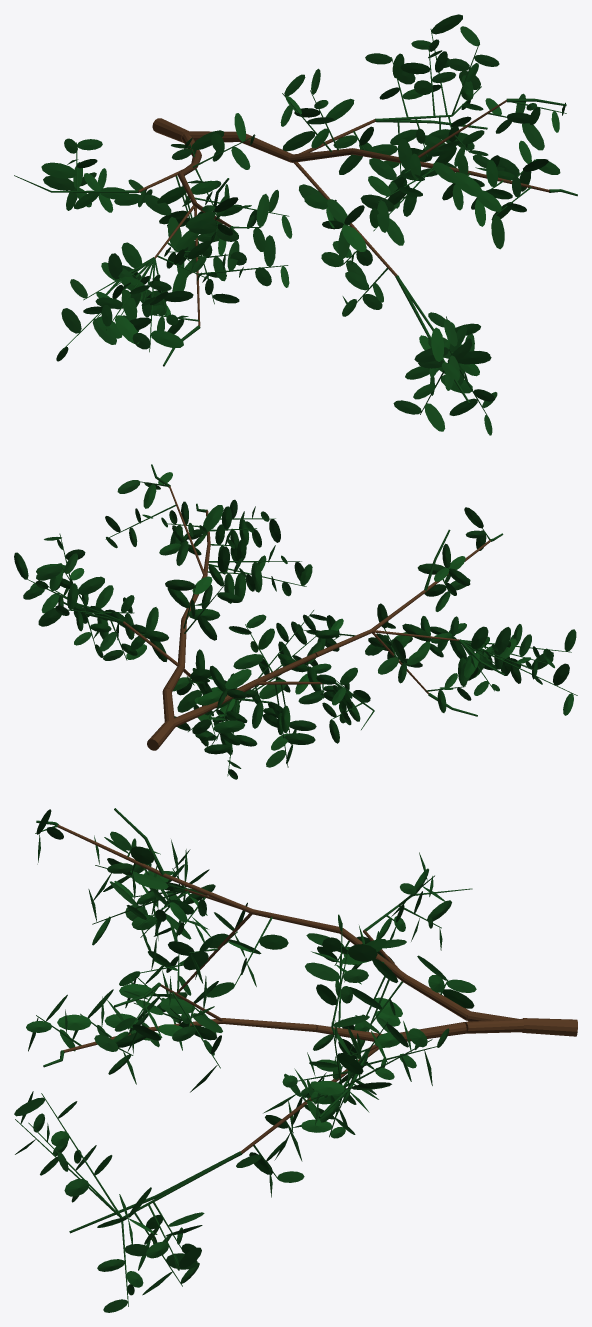
The model's file is static.obj.
3 views of the same model, one above another, from view 1: azimuth 30°, elevation 25°; view 2: azimuth 150°, elevation 25°; view 3: azimuth 270°, elevation 25° (orthographic). The views are drawn at different scales.
Bounding box in the file's own units: 1.83 × 1.08 × 1.51.
